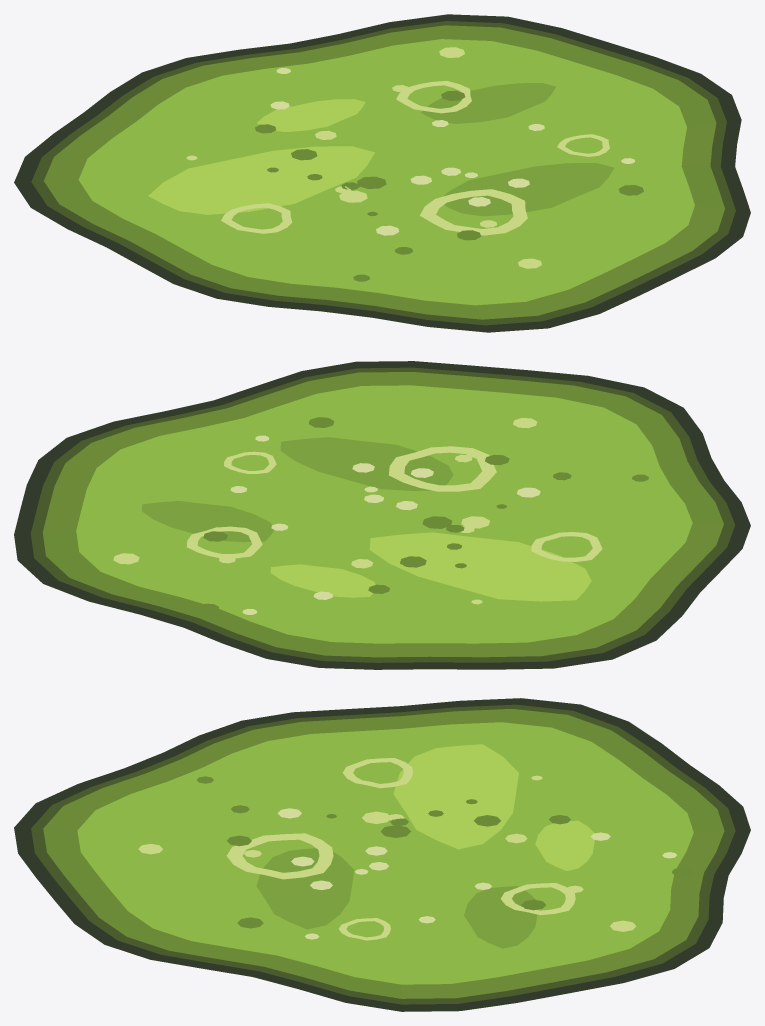
Rendered from AcidPuddle.fbx.
3 renders of one model, top to bottom at view 1: azimuth 30°, elevation 25°; view 2: azimuth 150°, elevation 25°; view 3: azimuth 270°, elevation 25°, orthographic.
Visible parts, largest first — view 1: Acid_Liquid, Acid_Stain; view 2: Acid_Liquid, Acid_Stain; view 3: Acid_Liquid, Acid_Stain.
Boxes of the visible parts, x1,y1,x2,y2 form: Acid_Liquid: (44, 25, 724, 319); Acid_Stain: (14, 14, 750, 332); Acid_Liquid: (42, 372, 723, 657); Acid_Stain: (14, 361, 750, 669); Acid_Liquid: (43, 709, 724, 998); Acid_Stain: (14, 698, 750, 1011).
Size of the model in its own units: 652 by 2.7 by 648.
